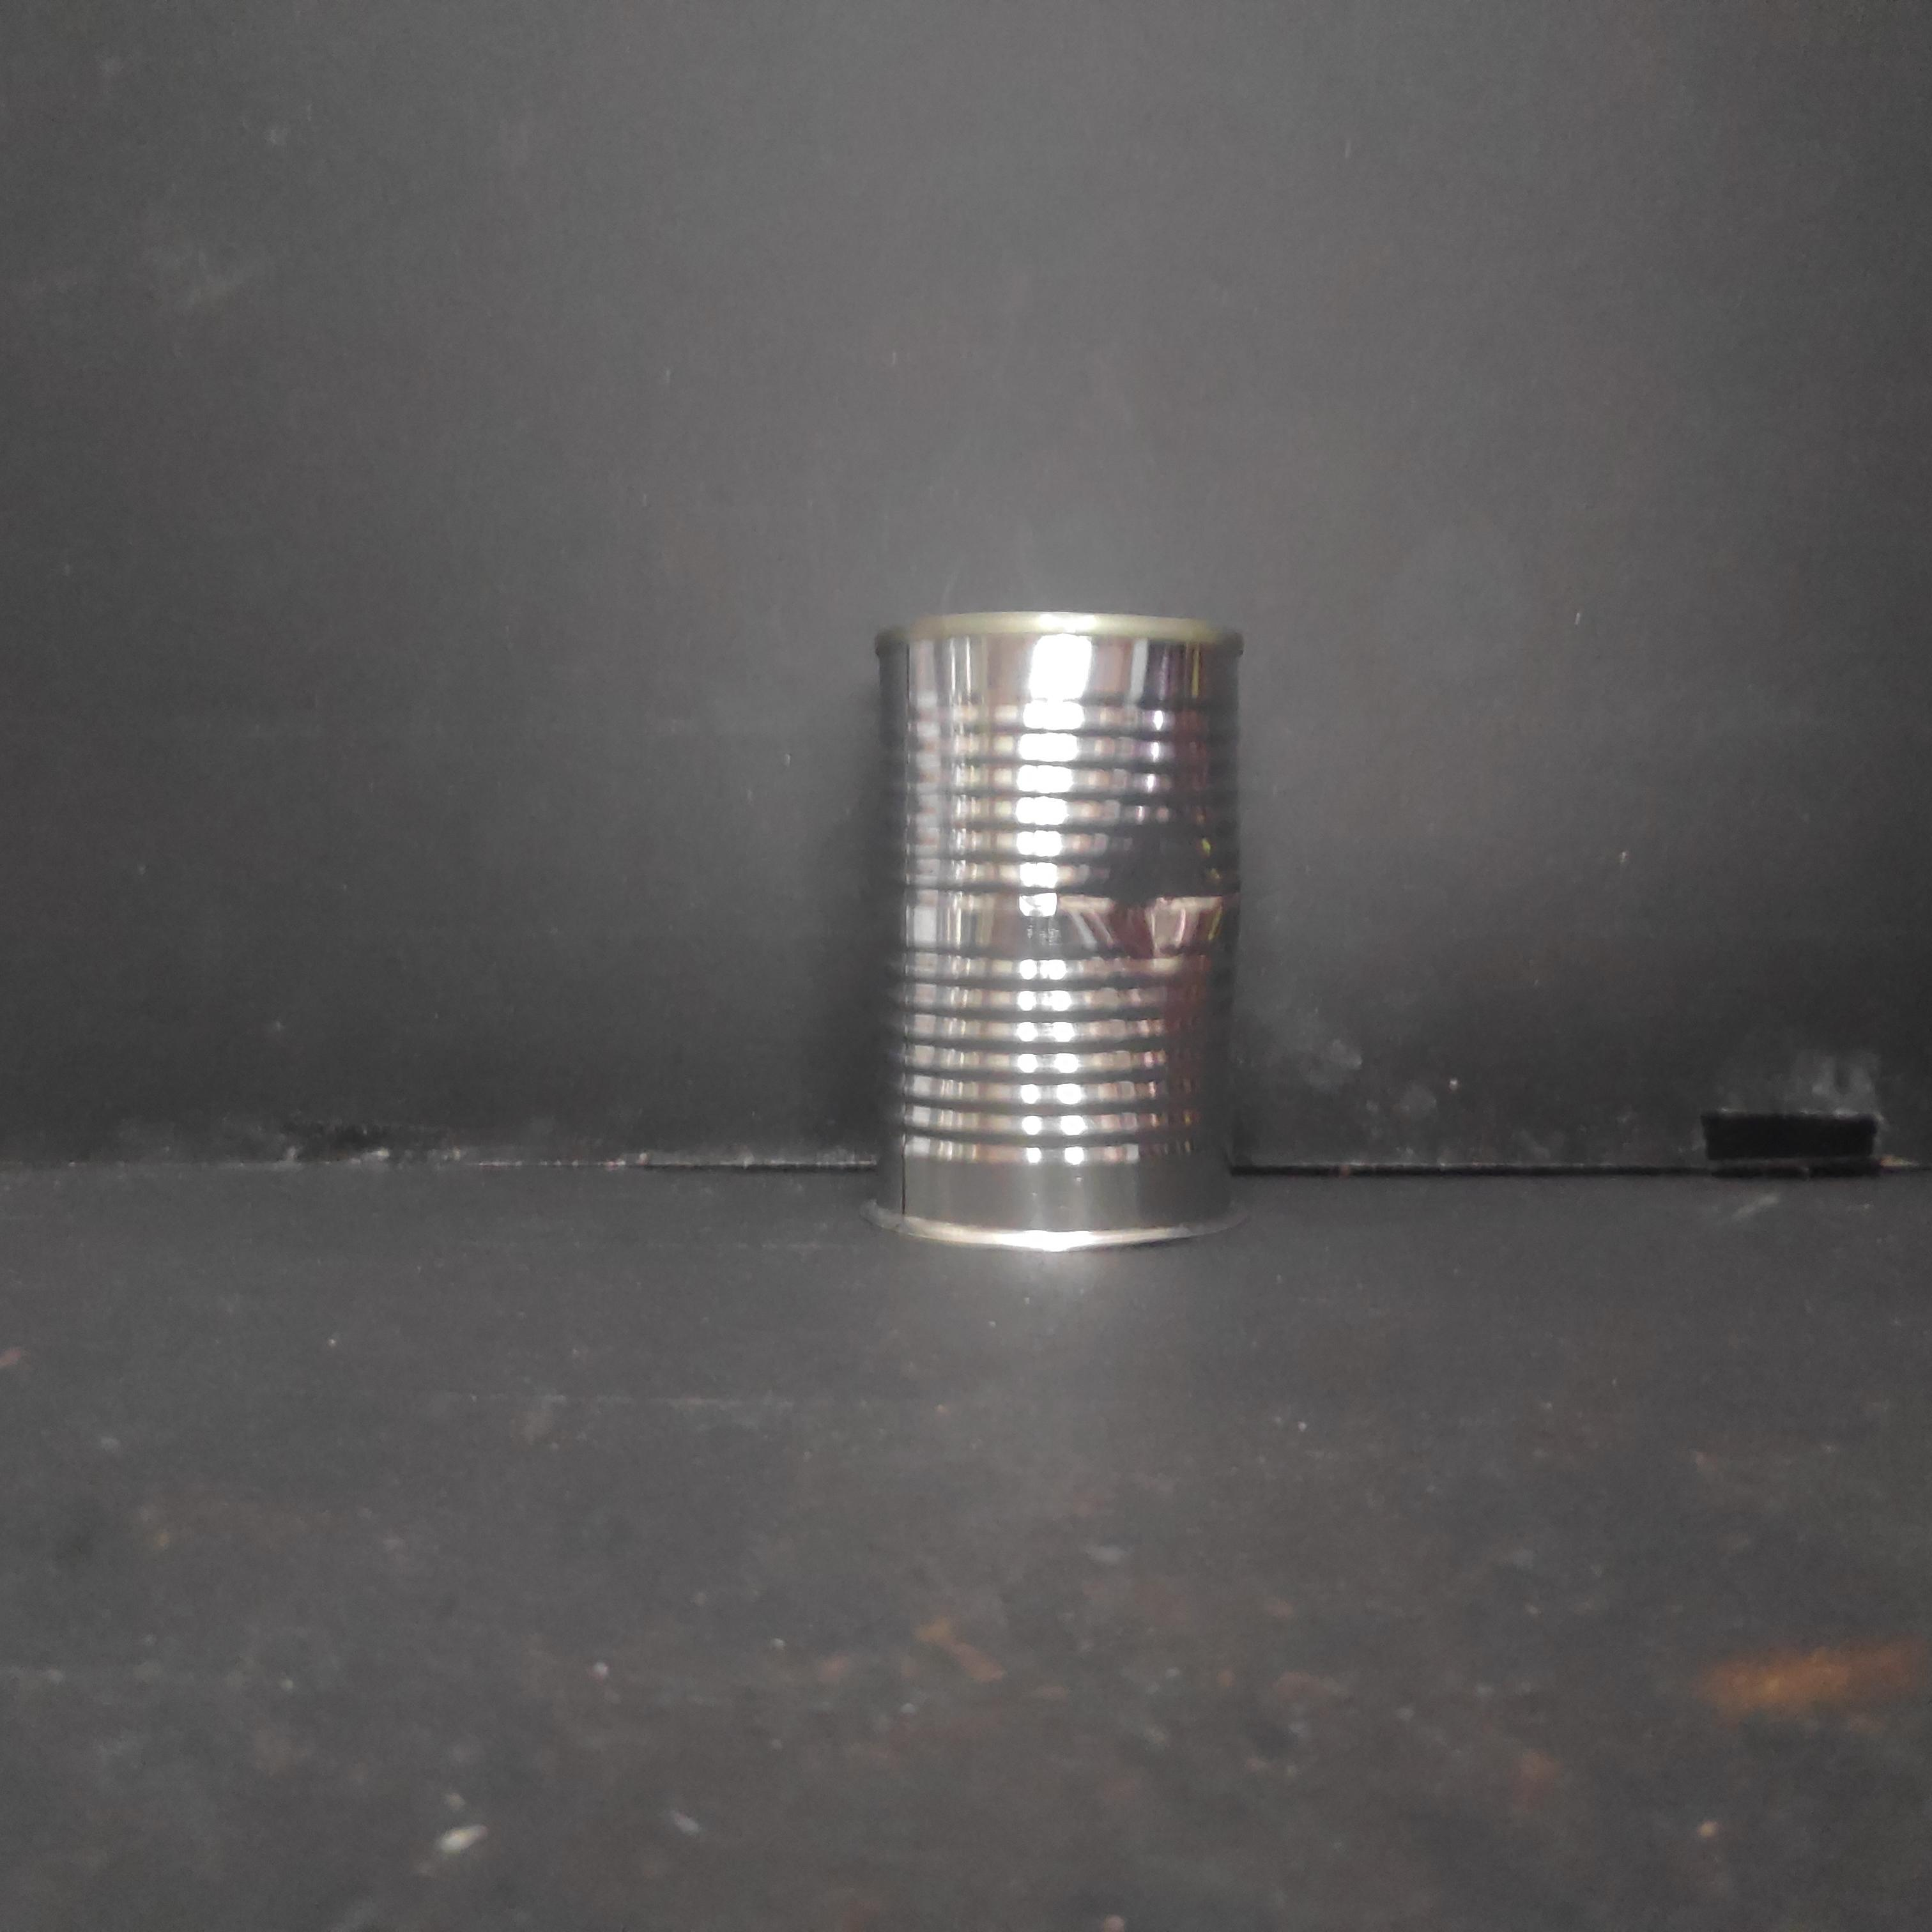Minor Defect: (867, 598, 1260, 1260)
